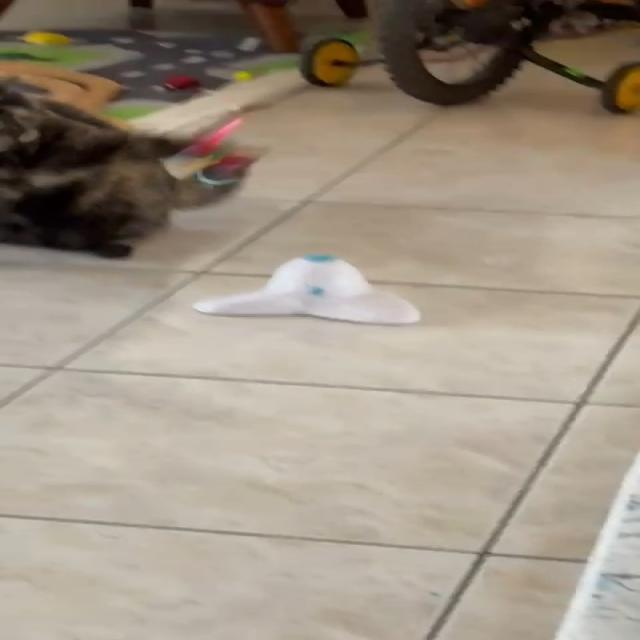authorized: (0, 72, 261, 258)
